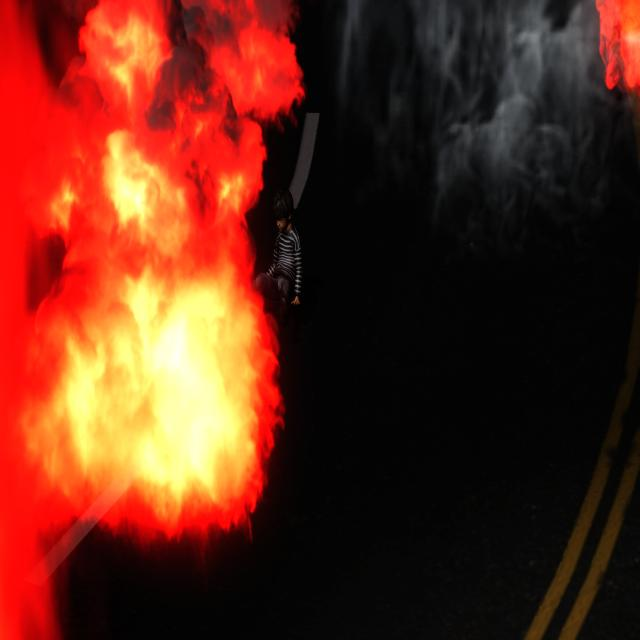Human: (250, 190, 301, 316)
